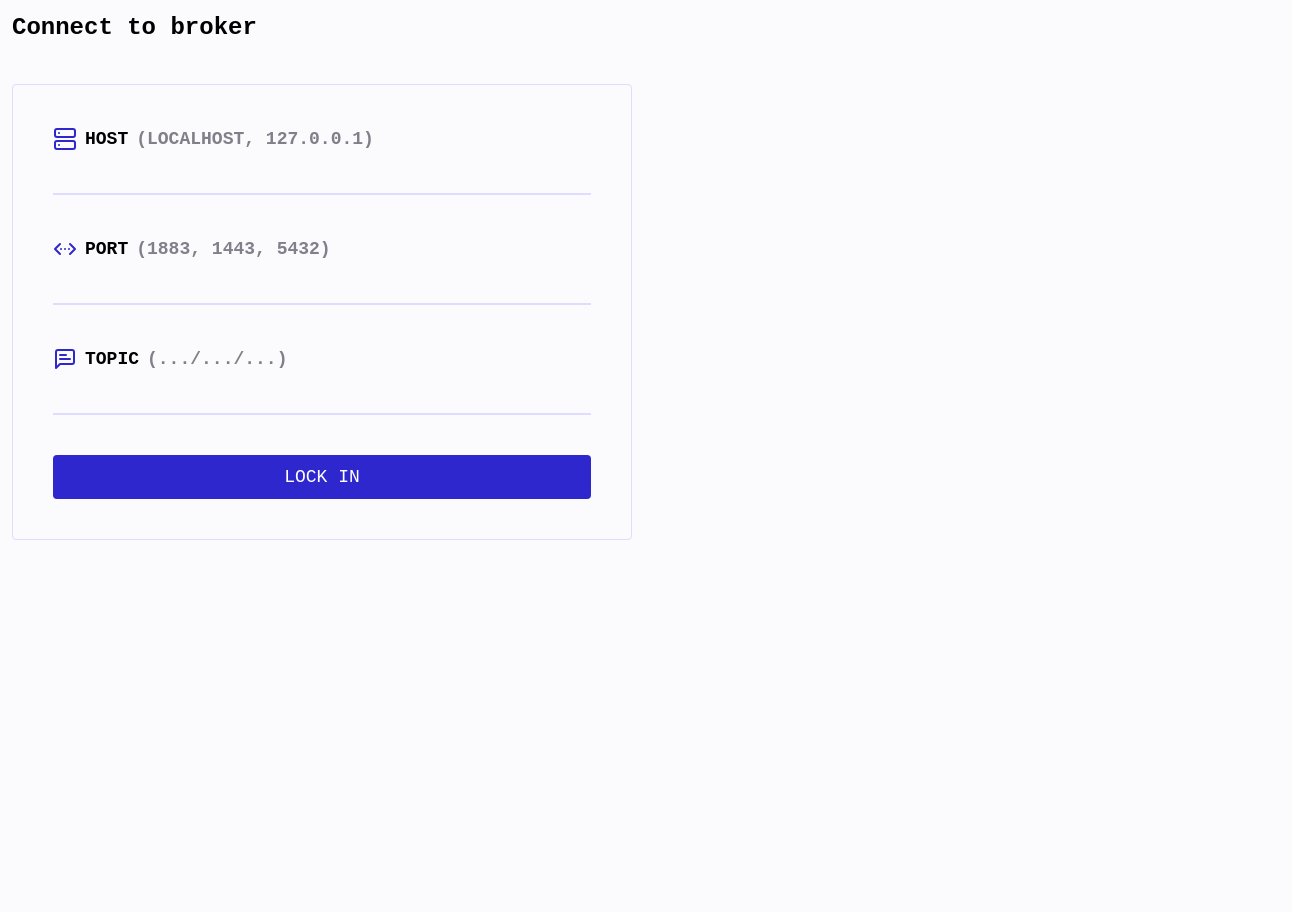
Scenario: Homepage component › display connector panel if all fields are filled and lock in clicked
Type "localhost" into the field labelled "Host (localhost, 127.0.0.1)" at point(322, 174), box [53, 153, 591, 195]
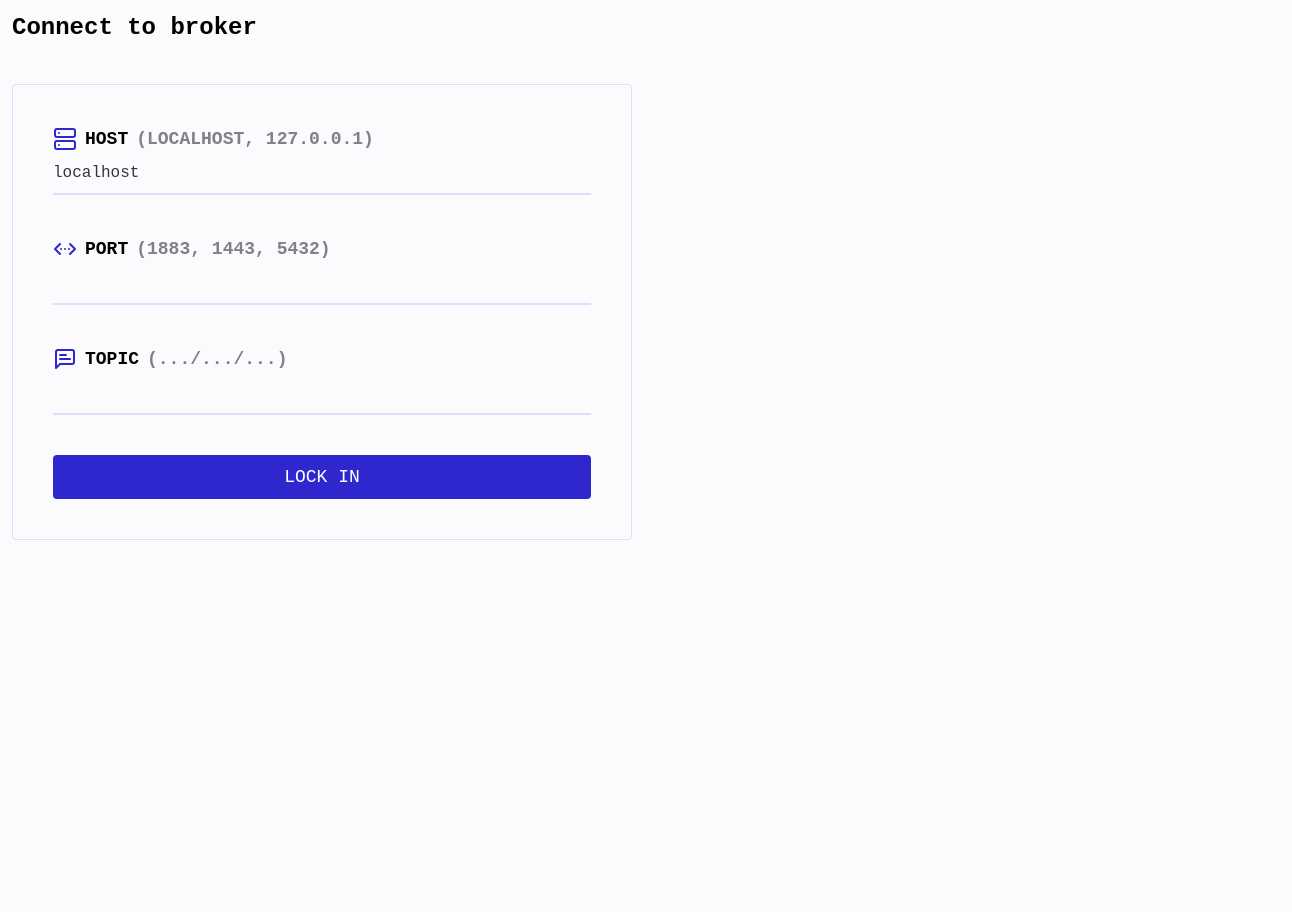
Type "1883" into the field labelled "Port (1883, 1443, 5432)" at point(322, 284), box [53, 263, 591, 305]
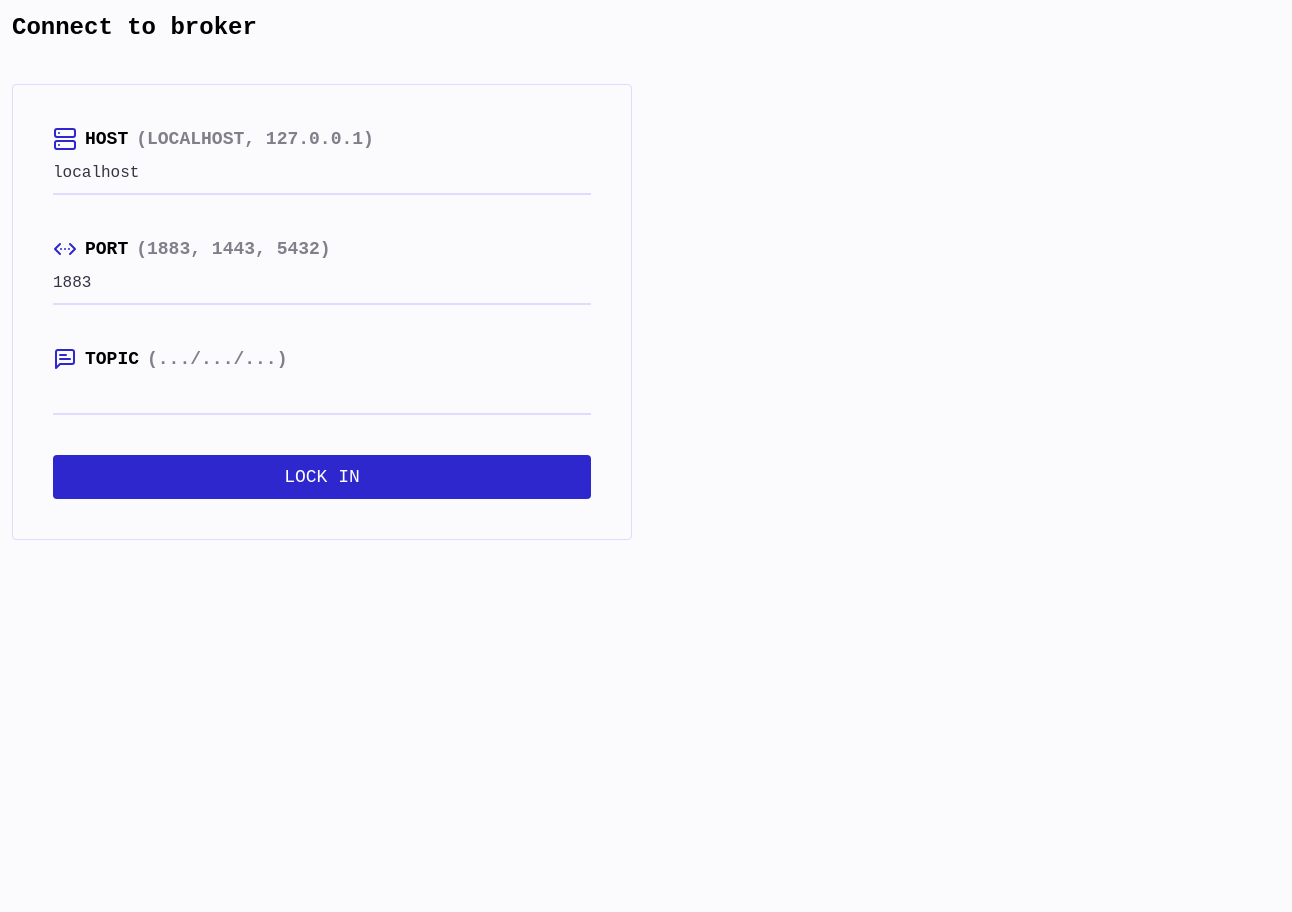
Type "test/topic" into the field labelled "Topic (.../.../...)" at point(322, 394), box [53, 373, 591, 415]
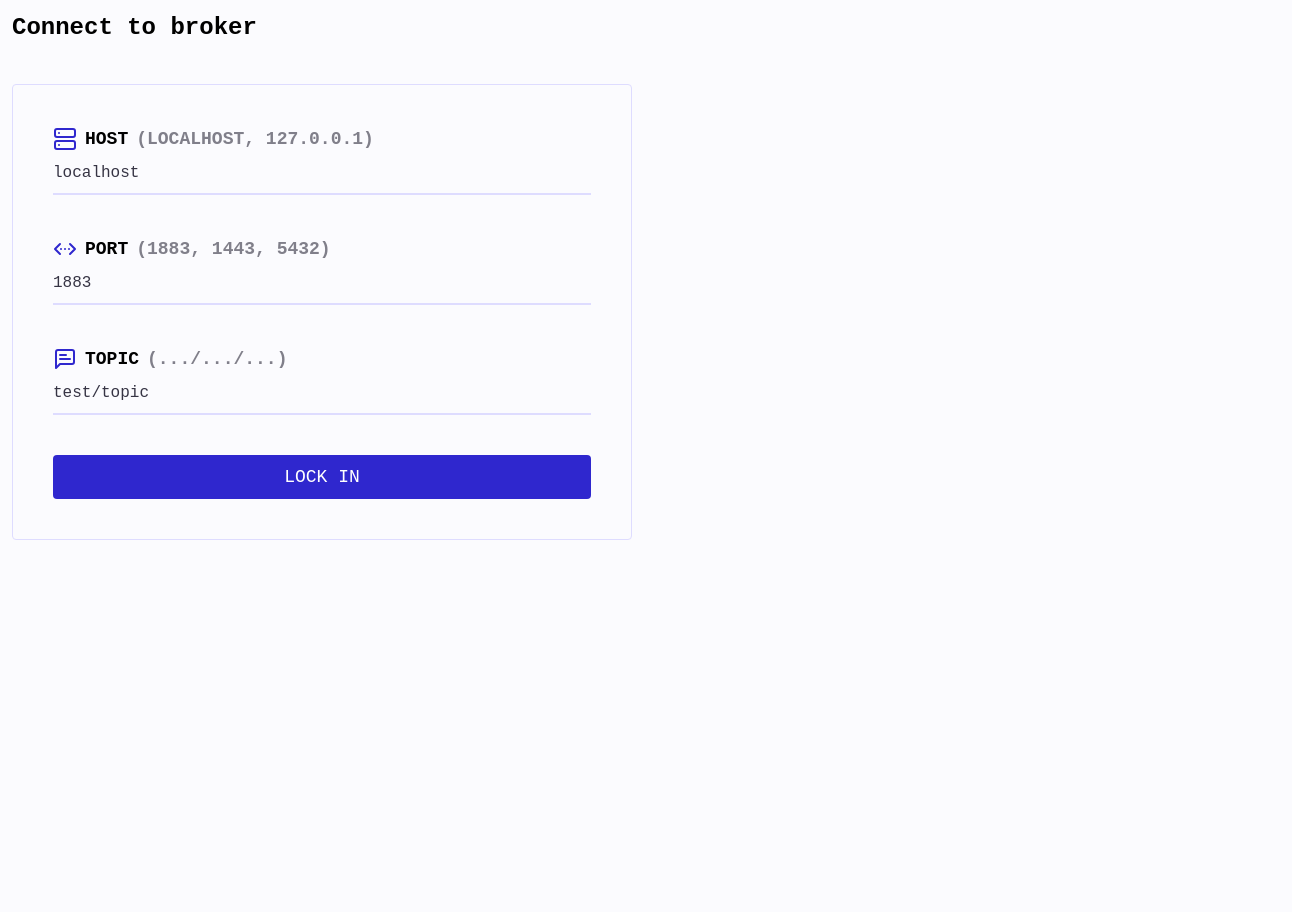
Click the button with aria-label "lock_in_broker" at point(322, 477), box [53, 455, 591, 499]
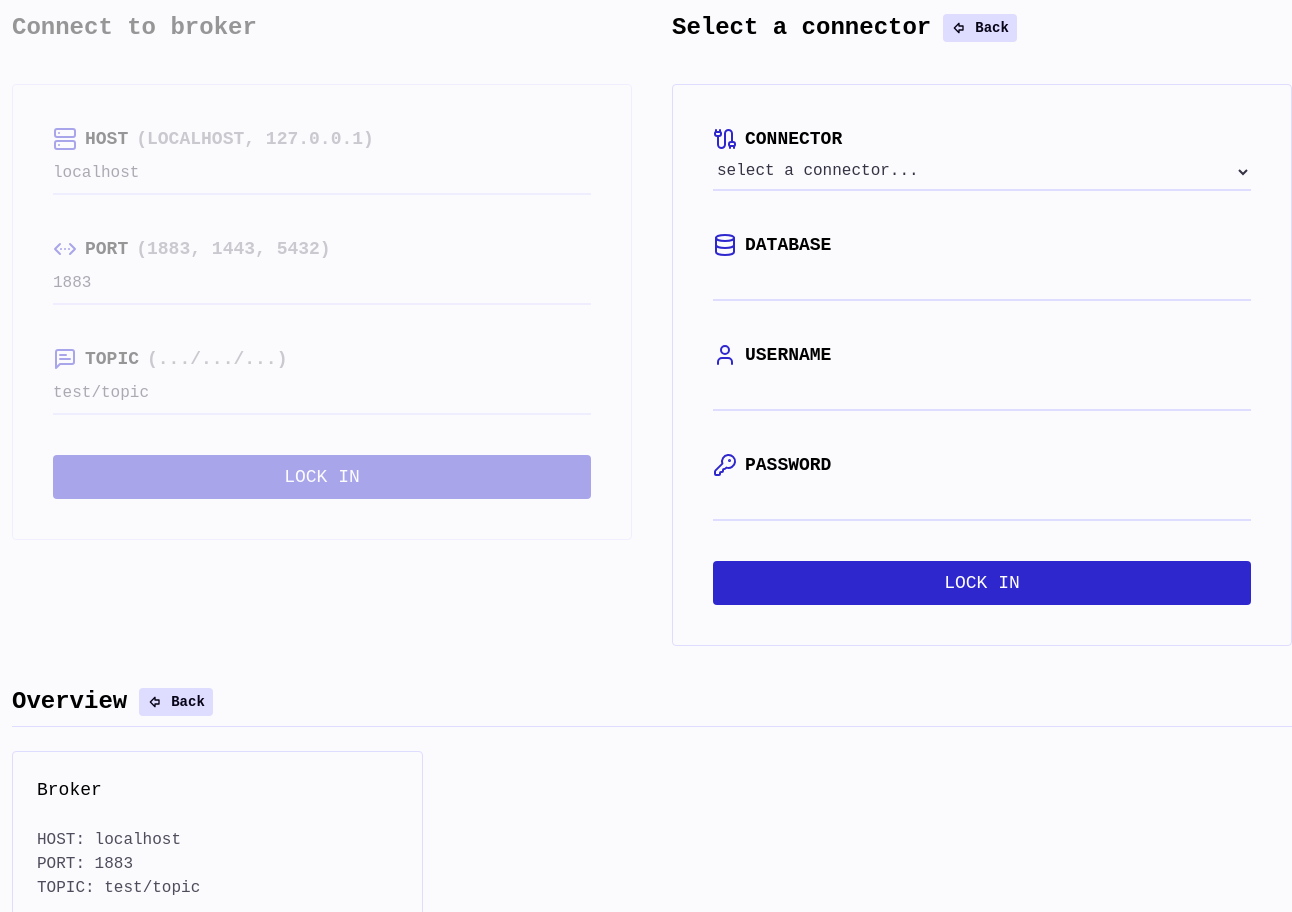
Check: the heading "Select a connector Back" is shown, box [672, 14, 1017, 42]
Check: the heading "Overview Back" is shown, box [12, 686, 1291, 727]
